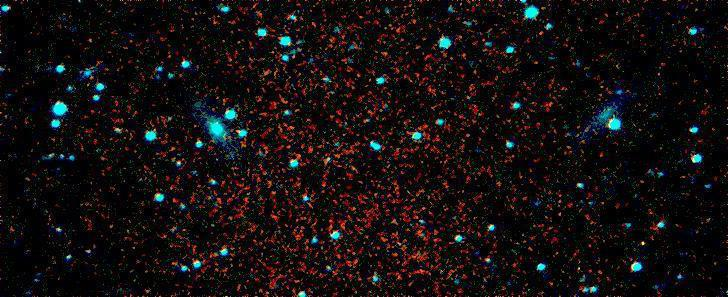star: (627, 233, 657, 263)
